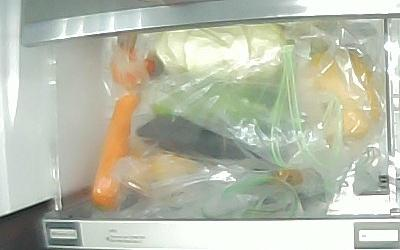cabbage_vinyl: (156, 24, 291, 82)
carrot_vinyl: (91, 89, 140, 211)
eggplant_vinyl: (135, 116, 294, 159)
pear_vinyl: (305, 47, 374, 136)
prune_vinyl: (109, 44, 162, 90)
zucchini_vinyl: (156, 75, 302, 136)
